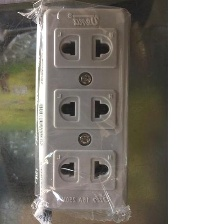three_eye_plug: (30, 0, 134, 220)
